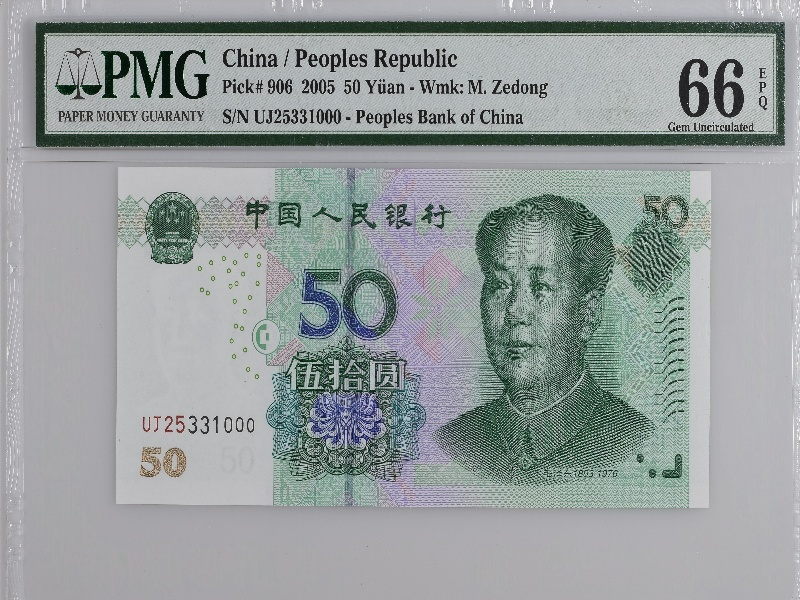papernote: (117, 165, 711, 511)
